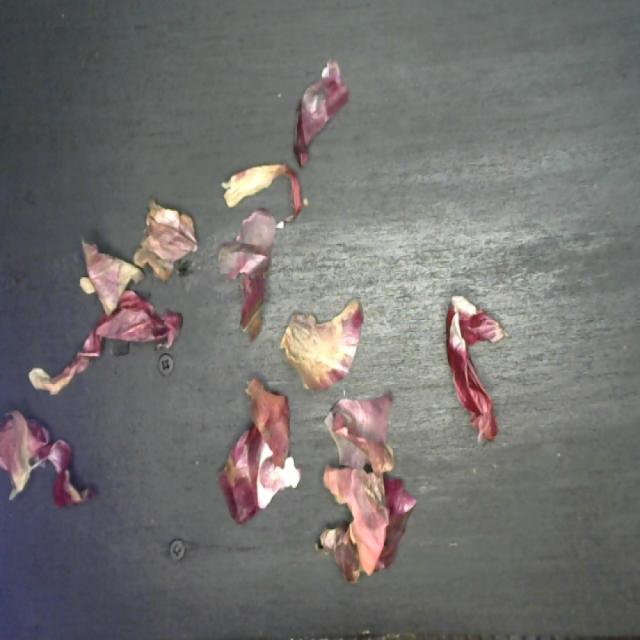biodegradable: (0, 57, 507, 590)
